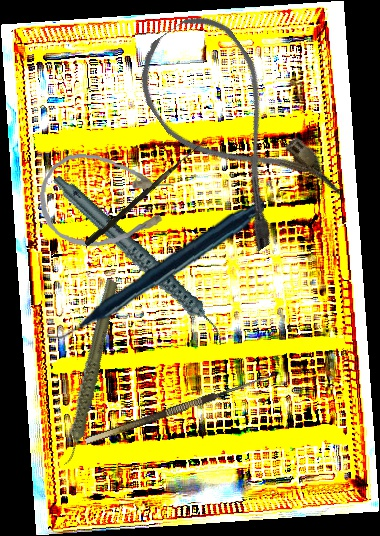Cannula: (120, 1, 344, 256), (36, 151, 176, 252)
Handpiece: (51, 147, 229, 374), (46, 187, 265, 351), (22, 277, 154, 468)
Hook Surgical: (81, 362, 277, 445), (84, 134, 206, 249)
